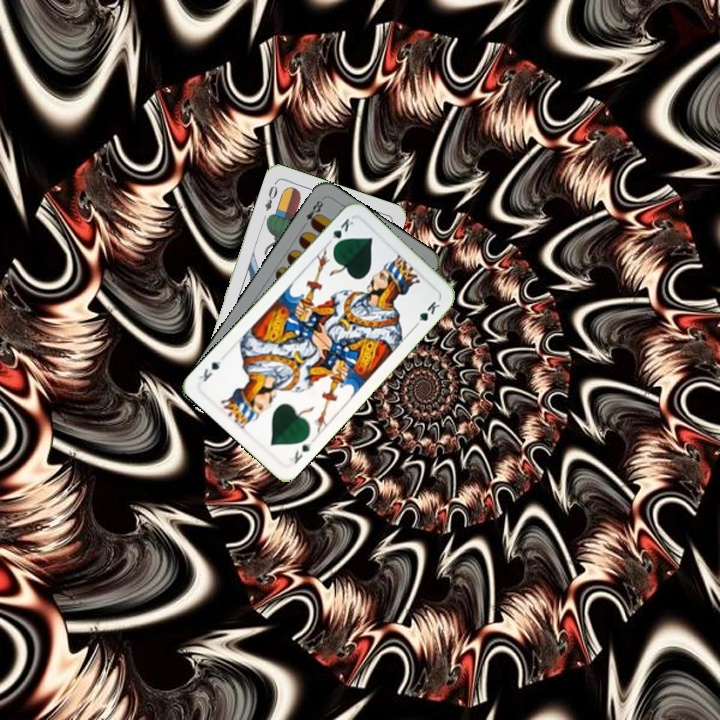E8: (298, 196, 326, 230)
EO: (261, 178, 280, 214)
GK: (323, 214, 356, 250), (285, 439, 314, 467)
